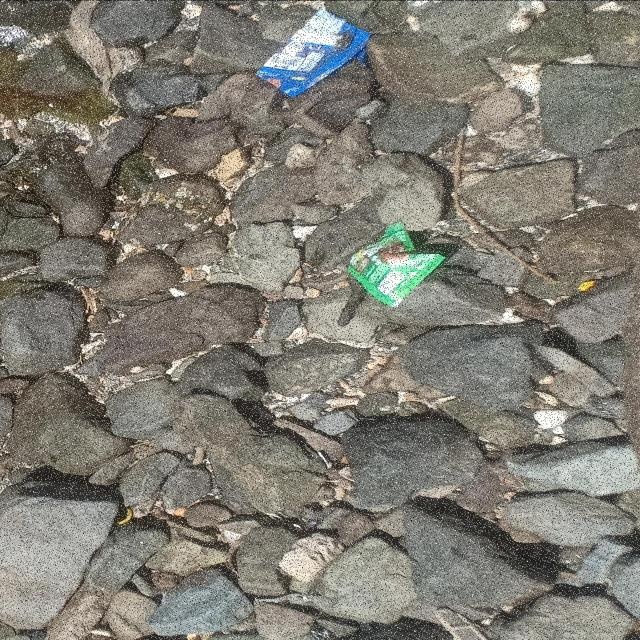plastic_waste: (256, 9, 373, 99), (348, 222, 449, 308)
